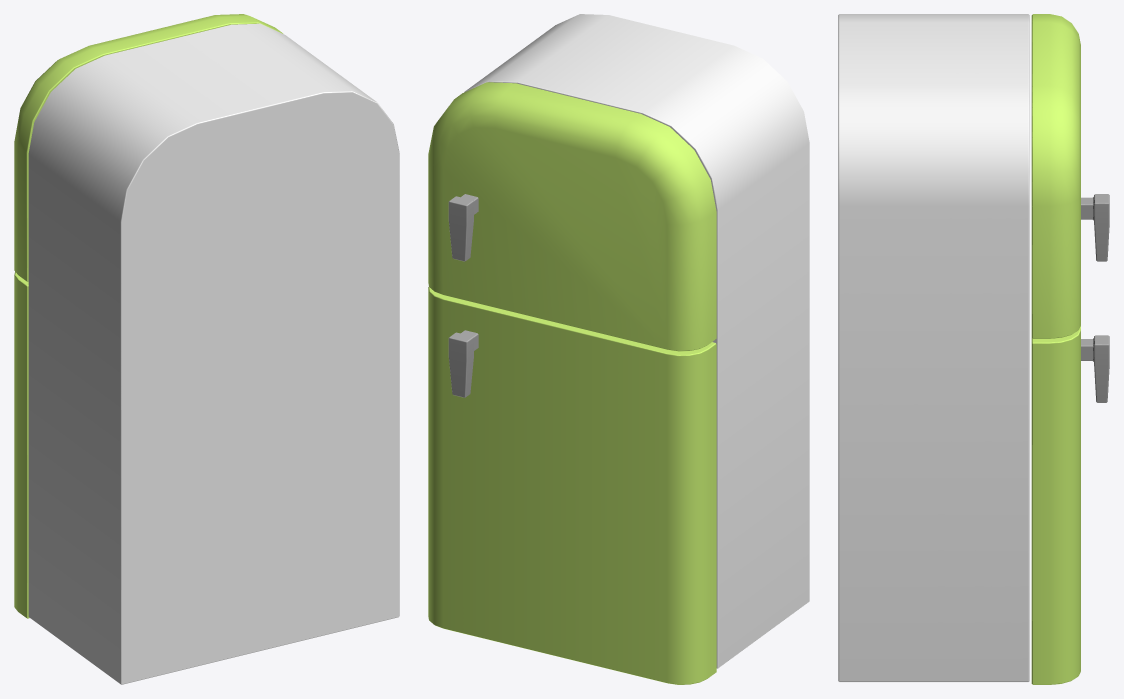
File: refrigerador.fbx
3 views of the same model, side by side, from view 1: azimuth 30°, elevation 25°; view 2: azimuth 150°, elevation 25°; view 3: azimuth 270°, elevation 25° (orthographic). The views are drawn at different scales.
Visible parts, largest first — view 1: Fridge; view 2: Fridge; view 3: Fridge.
Part boxes in pixels (x1,y1,x2,y2): Fridge: (14,14,399,684); Fridge: (428,14,809,684); Fridge: (838,14,1109,684).
Size of the model in its own units: 2 by 3.74 by 1.64.
